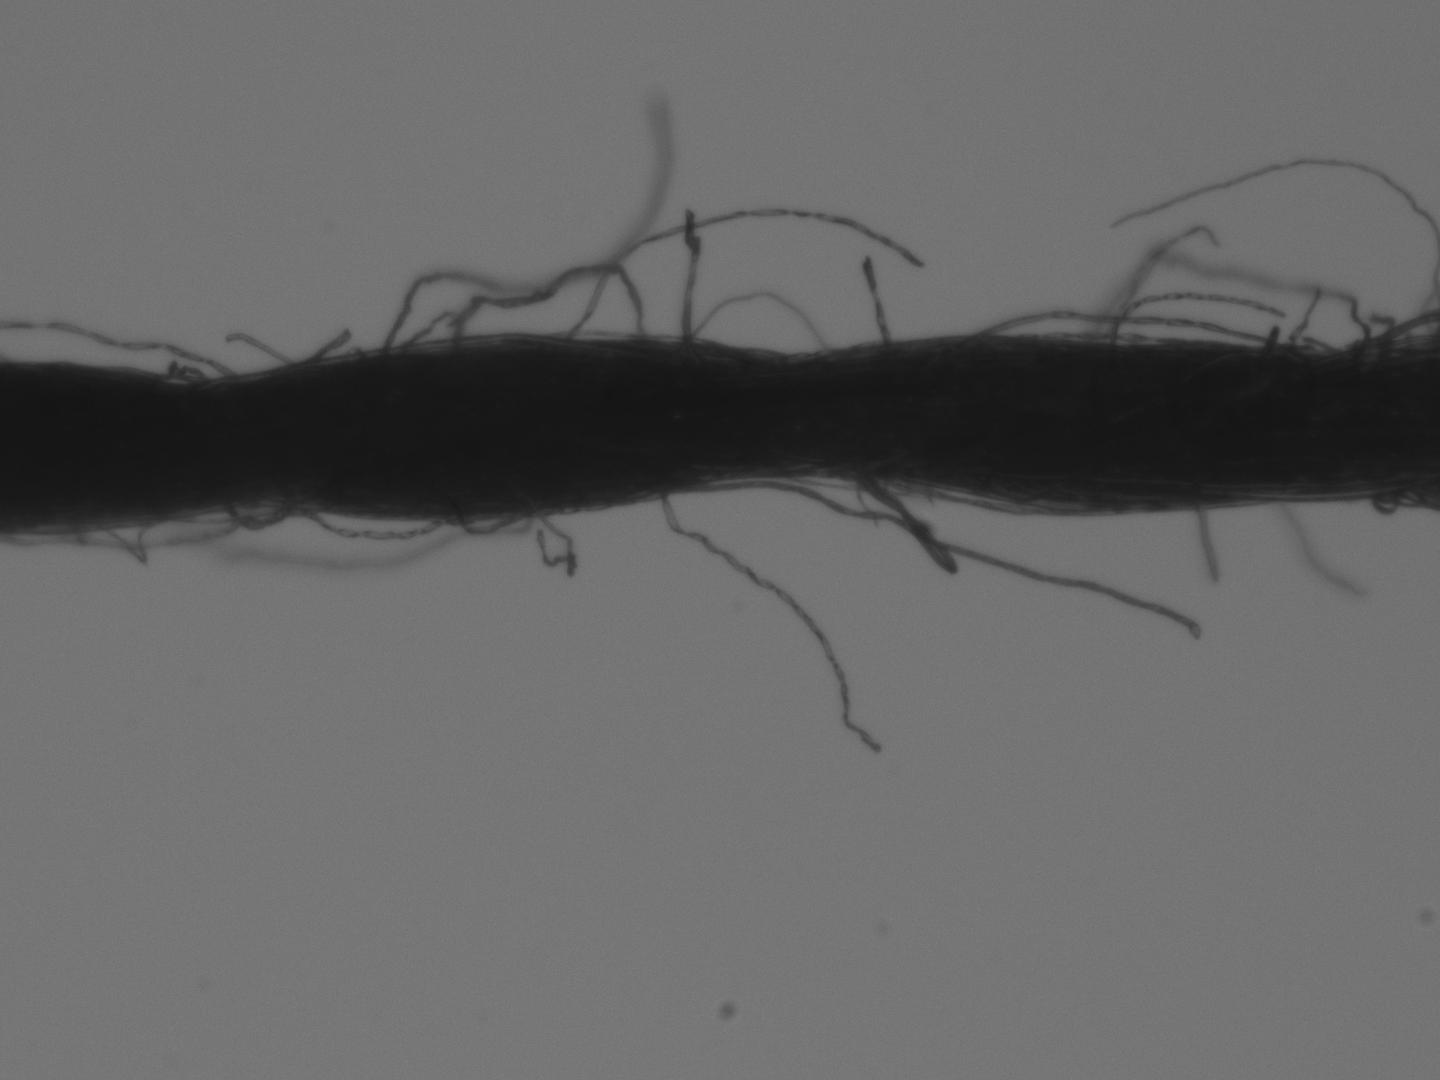loop_fiber: (450, 260, 645, 343), (966, 306, 1284, 348), (879, 469, 1111, 517), (685, 289, 835, 352), (291, 501, 443, 545), (447, 506, 528, 540), (223, 491, 288, 530), (146, 360, 207, 386)
protruding_fiber: (683, 479, 1204, 638), (659, 492, 880, 753), (574, 99, 667, 336), (1109, 290, 1285, 343), (681, 211, 701, 352), (862, 256, 888, 345), (298, 330, 350, 363), (234, 332, 283, 364)
